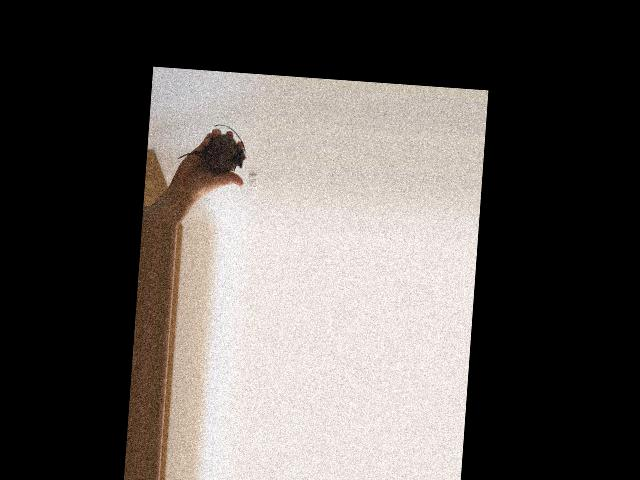beet: (177, 121, 248, 173)
